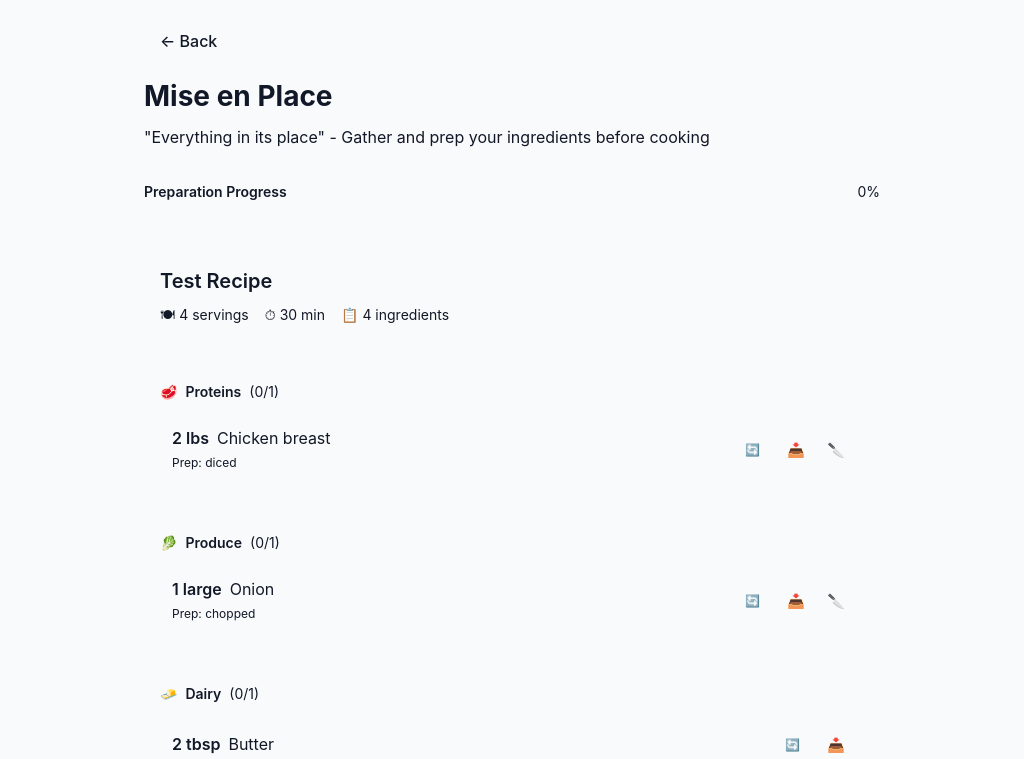
MiseEnPlace › progress starts at 0% and counts only real tasks
Check: the text "0%" is shown, box x1=857 y1=181 x2=880 y2=202
Click the button titled "Gathered" in the row of "Chicken breast".
click(796, 449)  # box x1=780 y1=433 x2=812 y2=465
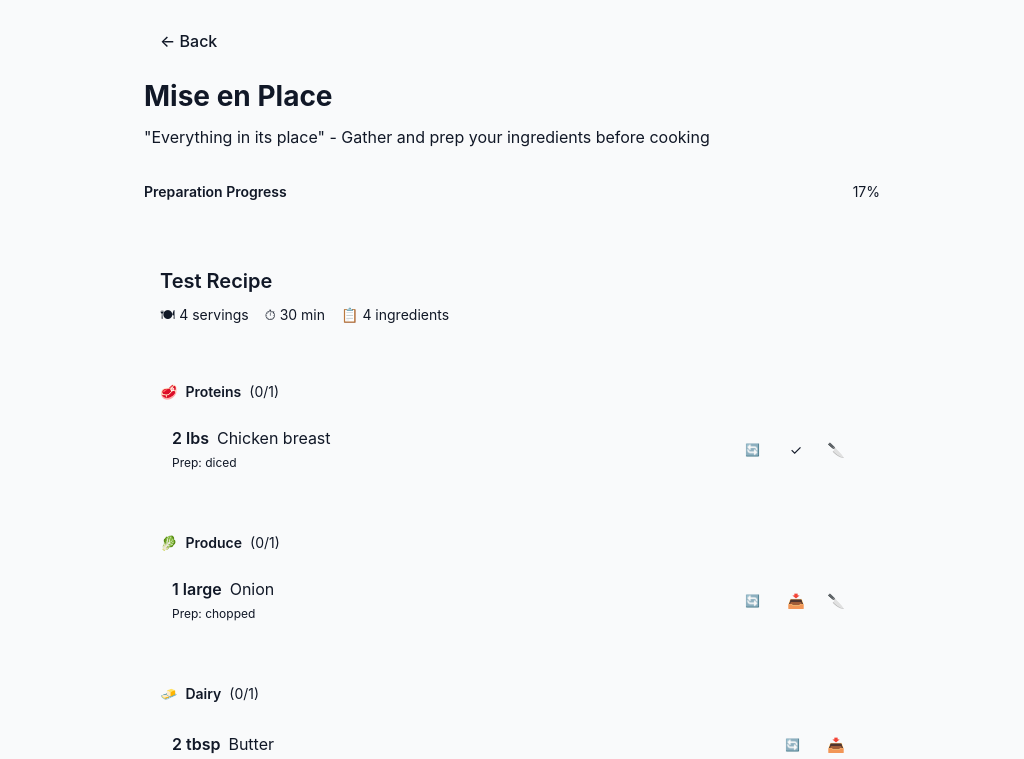
Check: the text "17%" is shown, box x1=853 y1=181 x2=880 y2=202
Click the button titled "Prepped" in the row of "Chicken breast".
click(836, 449)  # box x1=820 y1=433 x2=852 y2=465
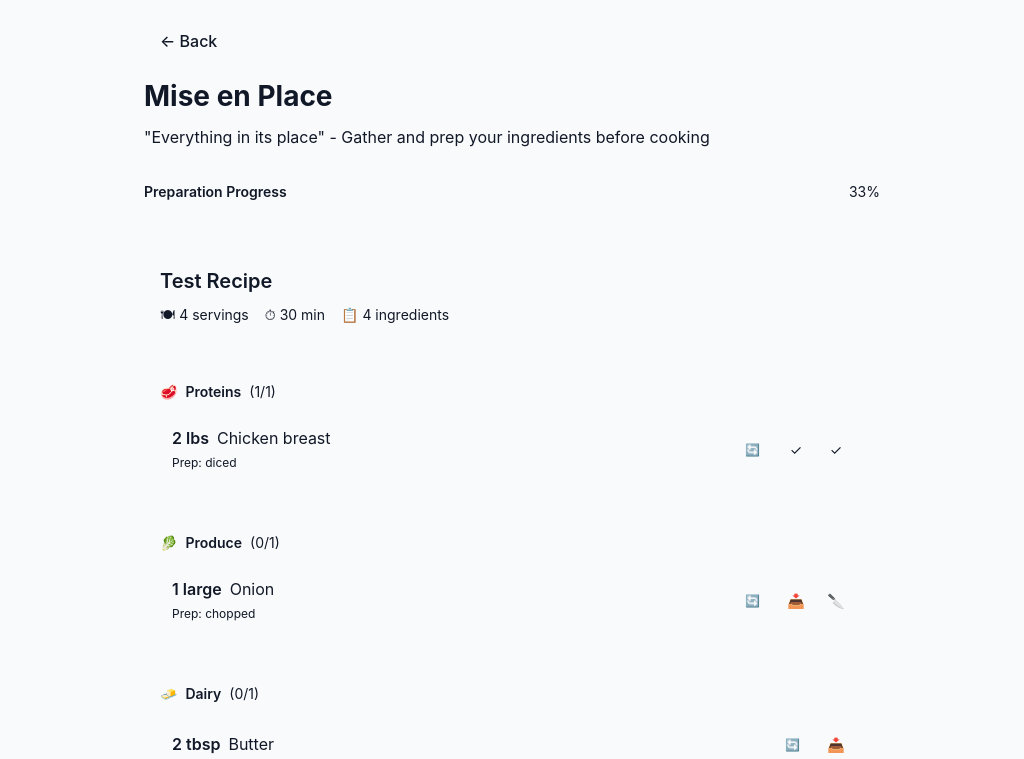
Check: the text "33%" is shown, box x1=849 y1=181 x2=880 y2=202
Click the button titled "Gathered" in the row of "Onion".
click(796, 600)  # box x1=780 y1=584 x2=812 y2=616
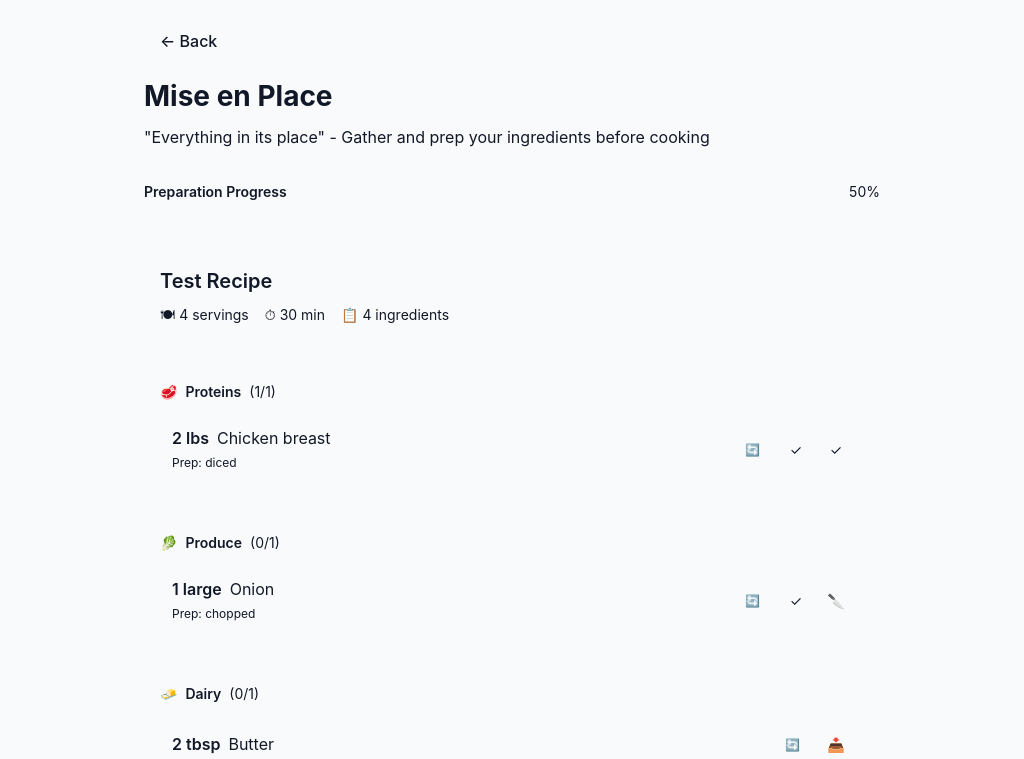
Click the button titled "Gathered".
click(836, 744)  # box x1=820 y1=728 x2=852 y2=758
(page scrolled)
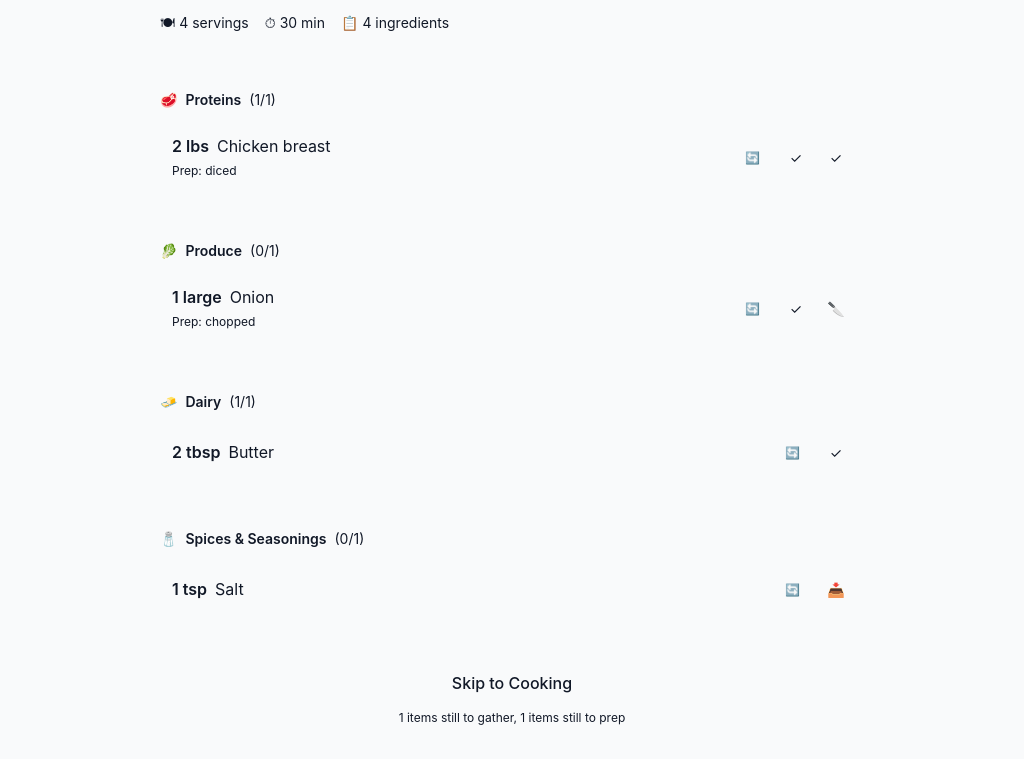
Click the button titled "Gathered".
click(836, 589)  # box x1=820 y1=573 x2=852 y2=605
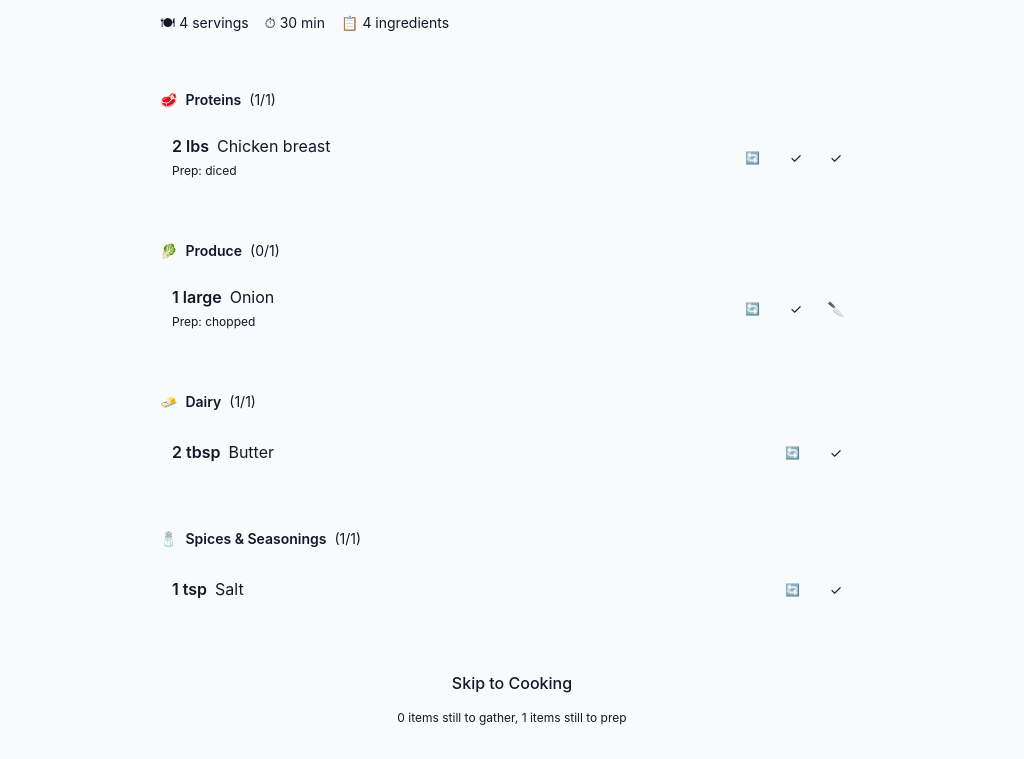
Click the button titled "Prepped".
click(836, 308)  # box x1=820 y1=292 x2=852 y2=324
(page scrolled)
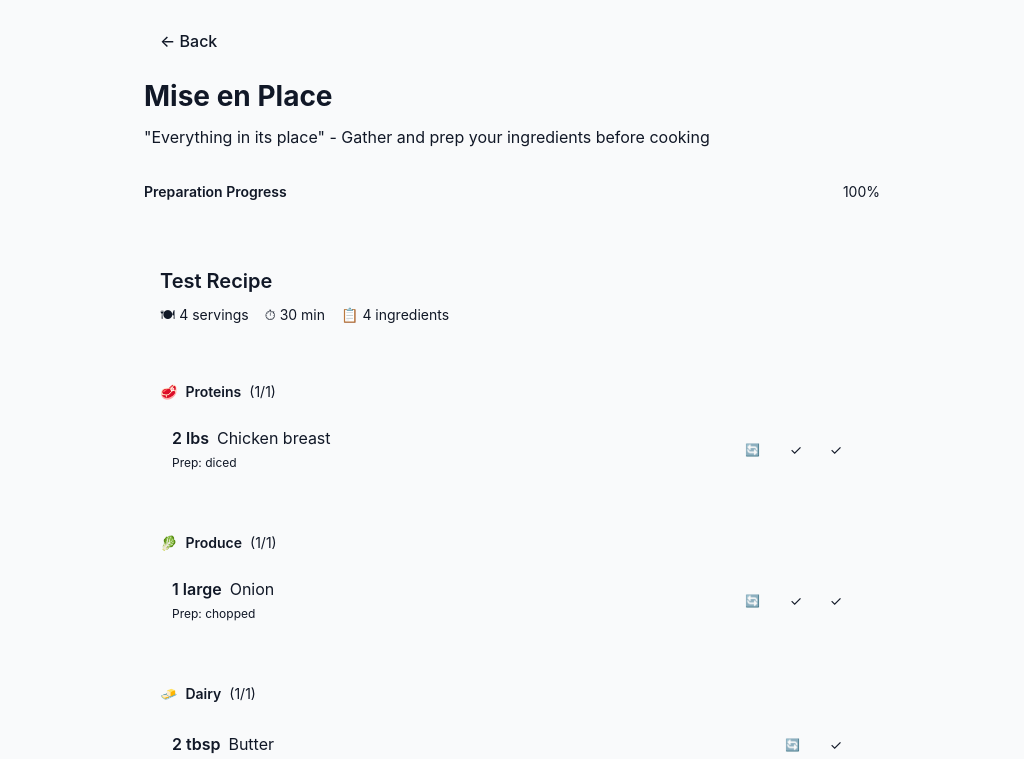
Check: the text "100%" is shown, box x1=843 y1=181 x2=880 y2=202
